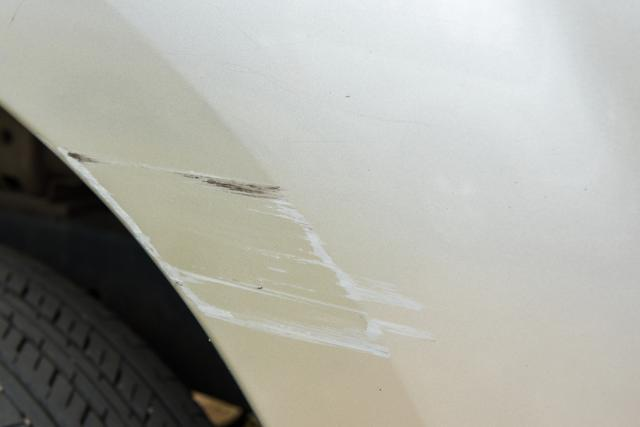Bumper: (60, 123, 477, 367)
